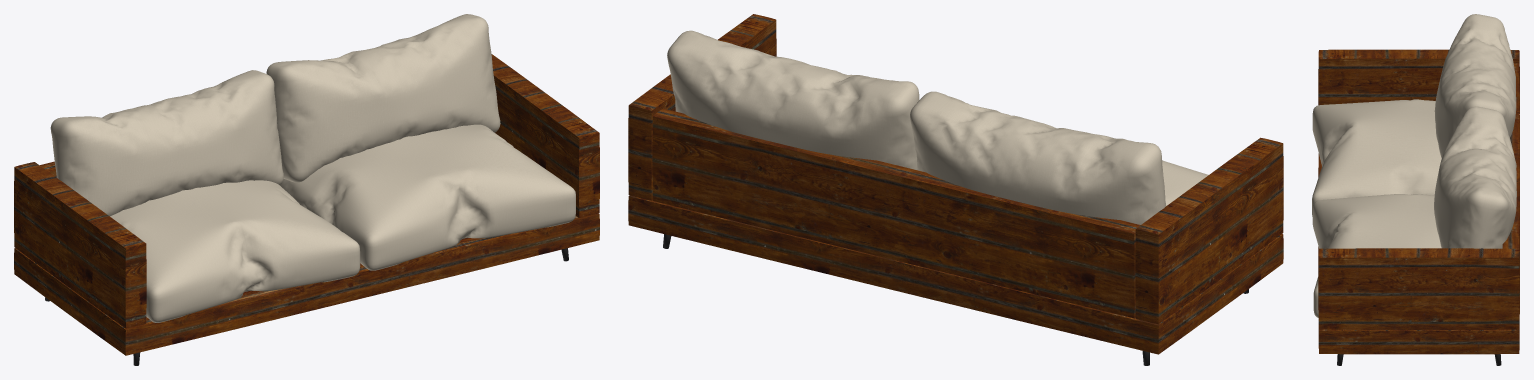
The model's file is canopee_salon.gltf.
The picture shows the model from 3 angles, left to right: view 1: azimuth 30°, elevation 25°; view 2: azimuth 150°, elevation 25°; view 3: azimuth 270°, elevation 25°; orthographic projection. The views are drawn at different scales.
Parts seen in each view (by area): view 1: canopee_salon; view 2: canopee_salon; view 3: canopee_salon.
Part boxes in pixels (x1,y1,x2,y2): canopee_salon: (14,14,599,365); canopee_salon: (628,14,1283,365); canopee_salon: (1312,14,1519,365).
Size of the model in its own units: 2.2 by 0.8332 by 0.9284.
Materials: 4 (2 with a texture image).
